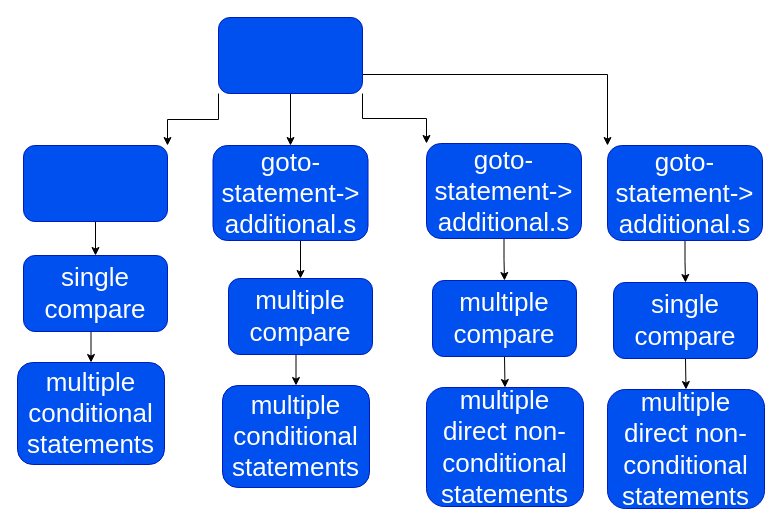
This 782x529 diagram has some shape labels left out. Each missing label, with the centre of its shape:
"branches-> additional.s" goes at point 95,183.
"control-flow" goes at point 290,55.
